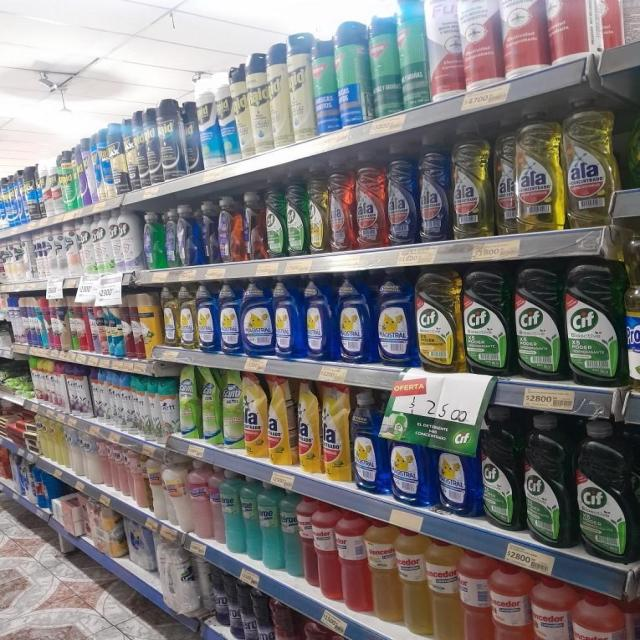ala_conc_amarillo: (565, 98, 618, 228), (508, 106, 562, 233), (452, 120, 493, 238), (494, 120, 518, 235)
ala_conc_azul: (419, 131, 451, 242), (386, 137, 418, 246), (625, 268, 640, 390)
ala_conc_rojo: (355, 147, 386, 250), (330, 153, 354, 252)
ala_sachet_amarillo: (323, 381, 350, 482), (296, 378, 321, 476), (268, 375, 294, 467)
cif_conc_bot_amarilla: (416, 266, 462, 372), (308, 161, 329, 254)
cif_conc_botella_verde: (576, 421, 636, 562), (566, 260, 623, 386), (524, 412, 573, 547), (514, 262, 564, 381), (463, 264, 512, 376), (482, 406, 522, 530), (286, 168, 308, 256), (264, 175, 285, 259)
magistral_con_amarillo: (179, 284, 196, 350), (162, 285, 178, 348)
magistral_con_azul: (375, 268, 415, 367), (352, 389, 386, 494), (336, 272, 373, 364), (242, 278, 274, 356), (218, 280, 240, 355), (196, 283, 218, 353)
vencedor: (367, 519, 402, 622), (427, 537, 461, 640), (398, 527, 430, 636), (338, 510, 370, 613), (491, 562, 532, 640), (310, 502, 340, 602), (459, 551, 492, 640), (533, 578, 572, 640)
